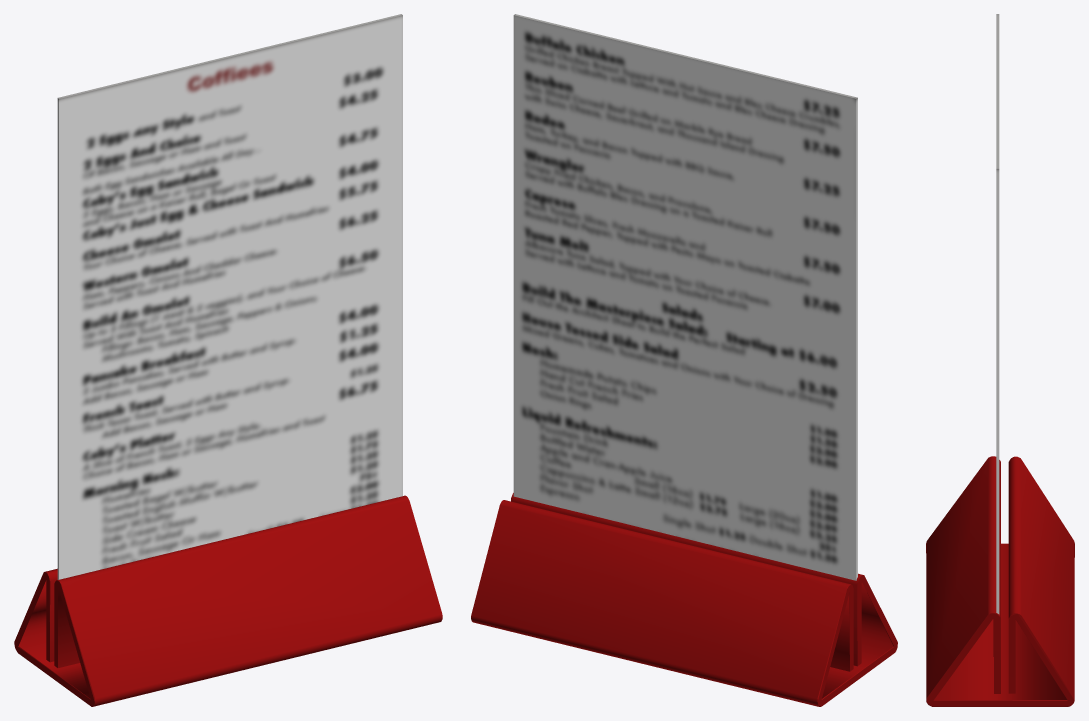
Rendered from Menu.FBX.
3 views of the same model, side by side, from view 1: azimuth 30°, elevation 25°; view 2: azimuth 150°, elevation 25°; view 3: azimuth 270°, elevation 25° (orthographic). The views are drawn at different scales.
Visible parts, largest first — view 1: menu; view 2: menu; view 3: menu.
Part boxes in pixels (box(x1,y1,x2,y2)): menu: box(14, 14, 442, 706); menu: box(471, 14, 897, 706); menu: box(926, 14, 1074, 706).
Bounding box in the file's own units: 16.31 × 26.05 × 6.53.
1 material, 1 textured.
